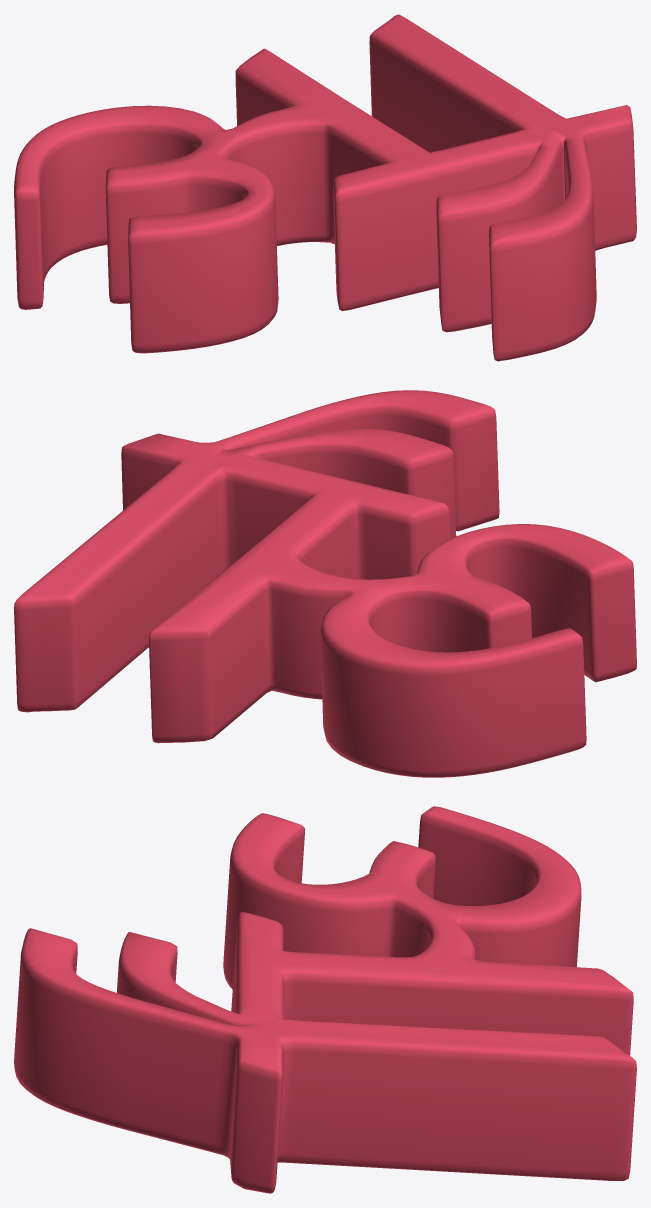
The picture shows the model from 3 angles, top to bottom: view 1: azimuth 30°, elevation 25°; view 2: azimuth 150°, elevation 25°; view 3: azimuth 270°, elevation 25°; orthographic projection. The views are drawn at different scales.
Visible parts, largest first — view 1: 3D_Alphabets_Hindi_Language_02.010; view 2: 3D_Alphabets_Hindi_Language_02.010; view 3: 3D_Alphabets_Hindi_Language_02.010.
Part boxes in pixels (x1,y1,x2,y2): 3D_Alphabets_Hindi_Language_02.010: [14, 14, 636, 361]; 3D_Alphabets_Hindi_Language_02.010: [14, 390, 636, 777]; 3D_Alphabets_Hindi_Language_02.010: [14, 806, 636, 1193].
Size of the model in its own units: 1.01 by 0.266 by 0.9585.
